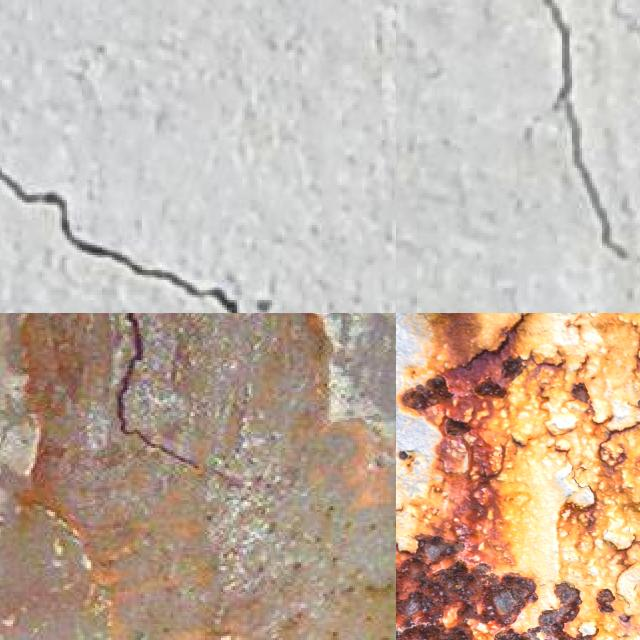Crack: (0, 168, 240, 313), (544, 0, 624, 258), (117, 313, 195, 466)
Pitting Corrosion: (396, 313, 640, 640)
